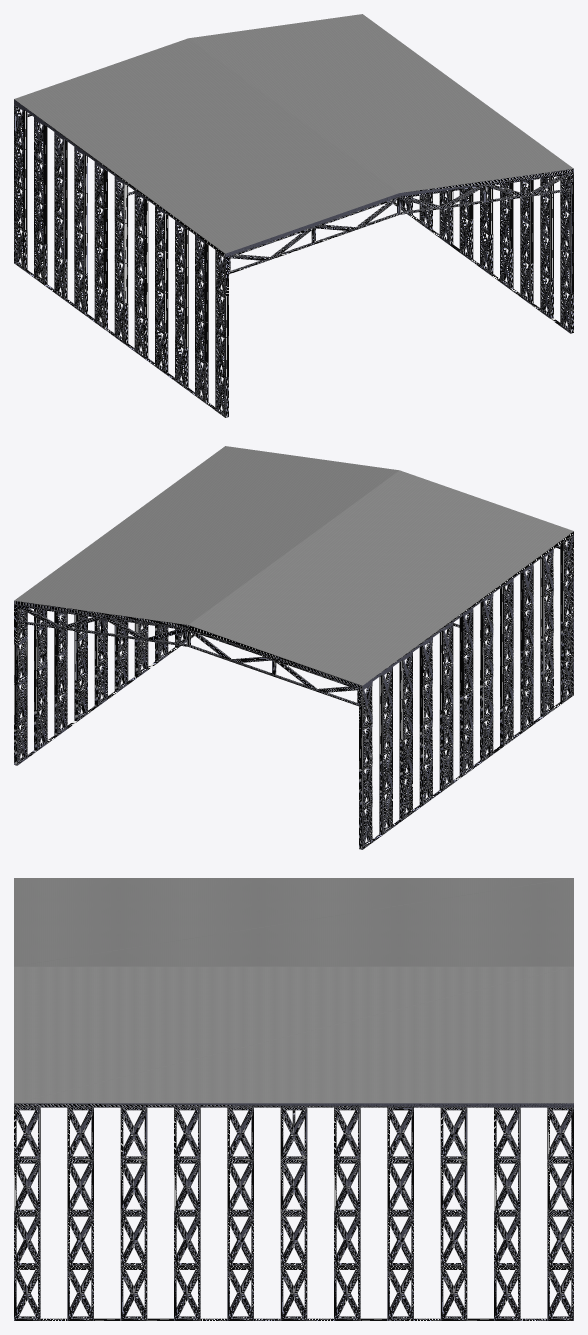
Rendered from hangar.gltf.
3 renders of one model, top to bottom at view 1: azimuth 30°, elevation 25°; view 2: azimuth 150°, elevation 25°; view 3: azimuth 270°, elevation 25°, orthographic. The views are drawn at different scales.
Parts seen in each view (by area): view 1: node2, node1; view 2: node2, node1; view 3: node2, node1.
Part boxes in pixels (x1,y1,x2,y2): node2: [14, 14, 573, 253]; node1: [14, 99, 573, 417]; node2: [14, 446, 573, 685]; node1: [14, 531, 573, 849]; node2: [14, 878, 573, 1103]; node1: [14, 1103, 573, 1320].
Bounding box in the file's own units: 20 × 10 × 21.
